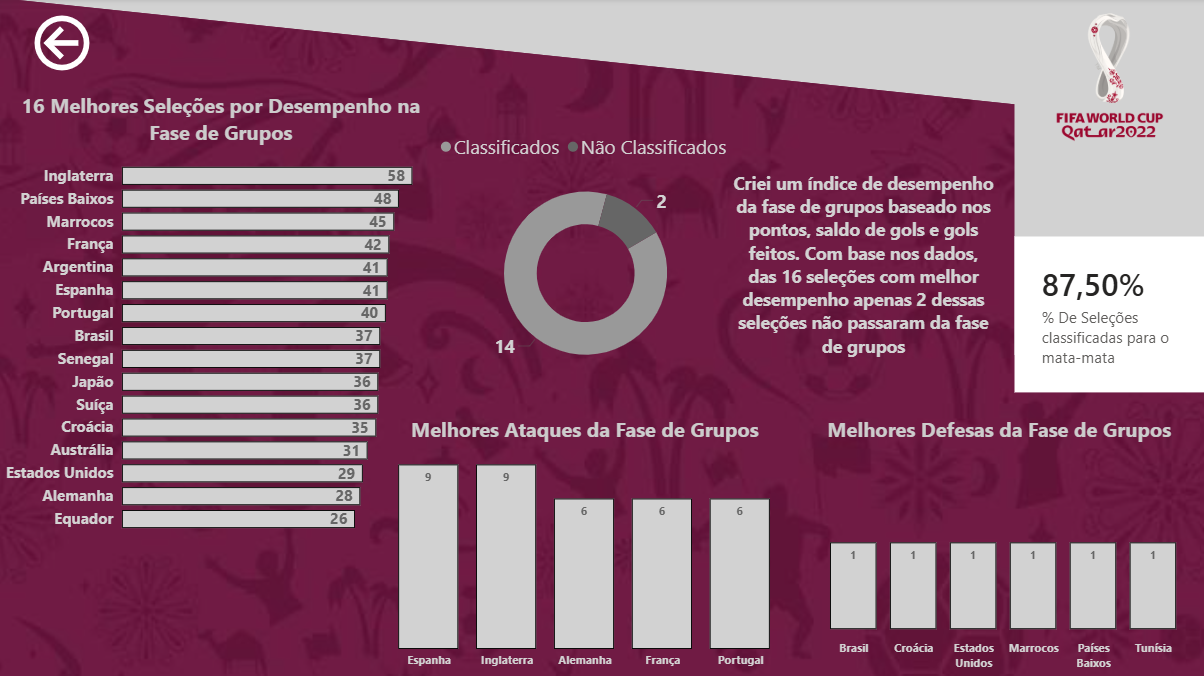

Layout of this report page (visuals, bound fields, positions):
{"tool":"powerbi","page":{"name":"Fase de Grupos","canvas":[1280,720],"ordinal":1},"visuals":[{"type":"shape","box":[0,0,1280,134],"z":0},{"type":"clusteredBarChart","title":"16 Melhores Seleções por Desempenho na Fase de Grupos","fields":{"Category":["Copa_2022.Seleção"],"Y":["Sum(Copa_2022.Desempenho)"]},"box":[0,98.3,470.6,478.1],"z":1000},{"type":"donutChart","fields":{"Y":["Copa_2022.Classificados","Copa_2022.Não Classificados"]},"box":[442.2,134.2,359.1,279.7],"z":2000},{"type":"shape","box":[1076.8,52.5,203.6,326.1],"z":3000},{"type":"cardVisual","fields":{"Data":["Copa_2022.Classificado top16"]},"box":[1076.8,252.9,203.6,165.4],"z":4000},{"type":"image","box":[1104,16,148,136],"z":5000},{"type":"textbox","box":[772.9,177.6,287.2,215.4],"z":6000},{"type":"columnChart","title":"Melhores Ataques da Fase de Grupos","fields":{"Category":["Copa_2022.Seleção"],"Y":["Sum(Copa_2022.Gols Pró)"]},"box":[385.5,442.2,472.4,277.8],"z":7000},{"type":"clusteredColumnChart","title":"Melhores Defesas da Fase de Grupos","fields":{"Category":["Copa_2022.Seleção"],"Y":["Sum(Copa_2022.Gols Contra)"]},"box":[841,442.2,438.4,277.8],"z":8000},{"type":"actionButton","box":[32.1,13.2,69.9,69.9],"z":9000}]}

Visuals, with their boxes in screenshot pixels (x1, y1, x2, y2), scaled from the page's 1280x720 canvas onto the 1204x676 screenshot:
shape: rect(0, 0, 1203, 126)
"16 Melhores Seleções por Desempenho na Fase de Grupos" clusteredBarChart: rect(0, 92, 443, 541)
donutChart - Copa_2022.Classificados x Copa_2022.Não Classificados: rect(416, 126, 754, 389)
shape: rect(1013, 49, 1203, 355)
cardVisual - Copa_2022.Classificado top16: rect(1013, 237, 1203, 393)
image: rect(1038, 15, 1178, 143)
textbox: rect(727, 167, 997, 369)
"Melhores Ataques da Fase de Grupos" columnChart: rect(363, 415, 807, 675)
"Melhores Defesas da Fase de Grupos" clusteredColumnChart: rect(791, 415, 1203, 675)
actionButton: rect(30, 12, 96, 78)
